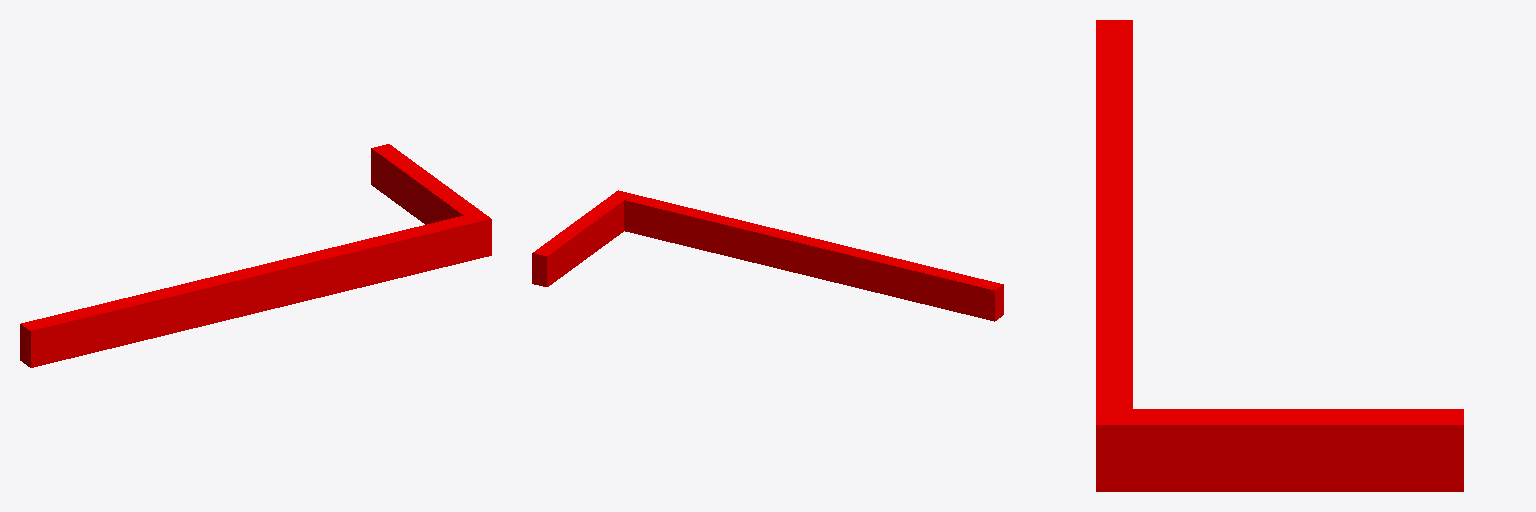
The robot description file, URDF, robot "hook":
<?xml version="0.0" ?>
<robot name="hook">
  <link name="handle_bar">
    <contact>
      <lateral_friction value="1"/>
      <rolling_friction value="0.0"/>
      <contact_cfm value="0.0"/>
      <contact_erp value="1.0"/>
    </contact>
    <inertial>
      <origin rpy="0 0 0" xyz="0 0 0"/>
       <mass value=".05"/>
       <inertia ixx="0.0001" ixy="0" ixz="0" iyy="0.0001" iyz="0" izz="0.0001"/>
    </inertial>
    <visual>
      <origin rpy="0 0 0" xyz="0.0 0.0 0.0"/>
      <geometry>
        <box size="0.1 0.02 0.04"/>
      </geometry>
      <material name="long_bar_texture">
        <color rgba="1. 0. 0. 0.5" />
      </material>
    </visual>
    <collision>
      <origin rpy="0 0 0" xyz="0.0 0.0 0.0"/>
      <geometry>
        <box size="0.1 0.02 0.04"/>
      </geometry>
    </collision>
  </link>

  <joint name="hook_joint1" type="fixed">
    <!-- <safety_controller k_position="100.0" k_velocity="40.0" soft_lower_limit="-1.7628" soft_upper_limit="1.7628"/> -->
    <origin rpy="0 0 0" xyz="0.25 0.0 0.0"/>
    <parent link="handle_bar"/>
    <child link="long_bar"/>
  </joint>



  <link name="long_bar">
    <contact>
      <lateral_friction value="1"/>
      <rolling_friction value="0.0"/>
      <contact_cfm value="0.0"/>
      <contact_erp value="1.0"/>
    </contact>
    <inertial>
      <origin rpy="0 0 0" xyz="0 0 0"/>
       <mass value=".05"/>
       <inertia ixx="0.0001" ixy="0" ixz="0" iyy="0.0001" iyz="0" izz="0.0001"/>
    </inertial>
    <visual>
      <origin rpy="0 0 0" xyz="0.0 0.0 0.0"/>
      <geometry>
        <box size="0.4 0.02 0.04"/>
      </geometry>
      <material name="long_bar_texture">
        <color rgba="1. 0. 0. 0.5" />
      </material>
    </visual>
    <collision>
      <origin rpy="0 0 0" xyz="0.0 0.0 0.0"/>
      <geometry>
        <box size="0.4 0.02 0.04"/>
      </geometry>
    </collision>
  </link>

  <joint name="hook_joint2" type="fixed">
    <!-- <safety_controller k_position="100.0" k_velocity="40.0" soft_lower_limit="-1.7628" soft_upper_limit="1.7628"/> -->
    <origin rpy="0 0 0" xyz="0.21 0.09 0.0"/>
    <parent link="long_bar"/>
    <child link="short_bar"/>
  </joint>

  <link name="short_bar">
    <contact>
      <lateral_friction value="1"/>
      <rolling_friction value="0.0"/>
      <contact_cfm value="0.0"/>
      <contact_erp value="1.0"/>
    </contact>
    <inertial>
      <origin rpy="0 0 0" xyz="0 0 0"/>
       <mass value=".05"/>
       <inertia ixx="0.0001" ixy="0" ixz="0" iyy="0.0001" iyz="0" izz="0.0001"/>
    </inertial>
    <visual>
      <origin rpy="0 0 0" xyz="0.0 0.0 0.0"/>
      <geometry>
        <box size="0.02 0.2 0.04"/>
      </geometry>
      <material name="short_bar_texture">
        <color rgba="1. 0. 0. 0.5" />
      </material>
    </visual>
    <collision>
      <origin rpy="0 0 0" xyz="0.0 0.0 0.0"/>
      <geometry>
	 	    <box size="0.02 0.2 0.04"/>
      </geometry>
    </collision>

  </link>
</robot>

--- Render facts (derived) ---
The picture shows the robot from 3 angles, left to right: view 1: azimuth 30°, elevation 25°; view 2: azimuth 150°, elevation 25°; view 3: azimuth 270°, elevation 25°; orthographic projection.
Robot: hook — 3 links, 2 joints (2 fixed); root link handle_bar; default pose: every joint at zero.
Visible links, largest first — view 1: long_bar, short_bar, handle_bar; view 2: long_bar, short_bar, handle_bar; view 3: short_bar, long_bar, handle_bar.
Link boxes in pixels (bbox=[...]): long_bar: bbox=[110, 216, 473, 346]; short_bar: bbox=[371, 144, 491, 259]; handle_bar: bbox=[20, 302, 118, 367]; long_bar: bbox=[624, 194, 928, 303]; short_bar: bbox=[532, 190, 631, 286]; handle_bar: bbox=[921, 266, 1003, 321]; short_bar: bbox=[1096, 409, 1463, 491]; long_bar: bbox=[1096, 98, 1132, 408]; handle_bar: bbox=[1096, 20, 1132, 97].
Size in the robot's own frame: 0.52 by 0.2 by 0.04 metres.
Geometry: primitives only (box / cylinder / sphere), no mesh files.
